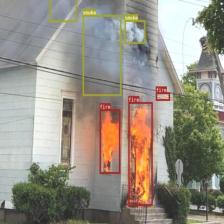fire: (128, 101, 153, 205), (99, 109, 120, 173), (156, 92, 170, 100)
smoke: (82, 14, 120, 96), (49, 0, 77, 22), (125, 20, 145, 44)
